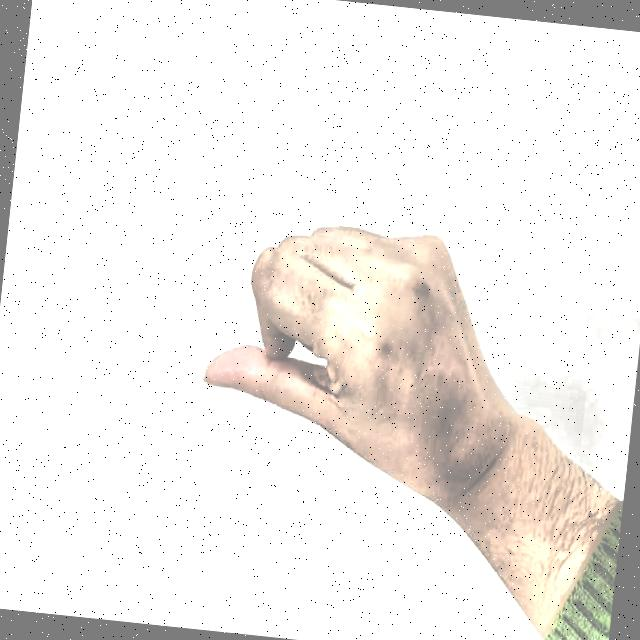Ay: (158, 148, 497, 551)
